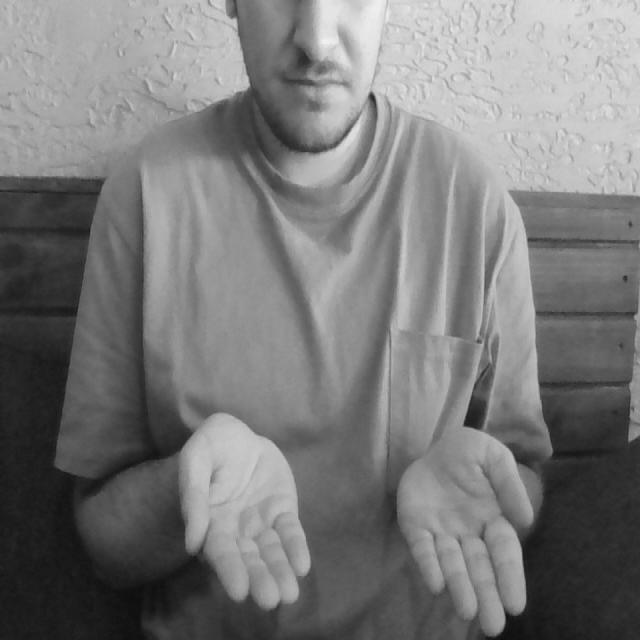Evet: (172, 407, 536, 639)
